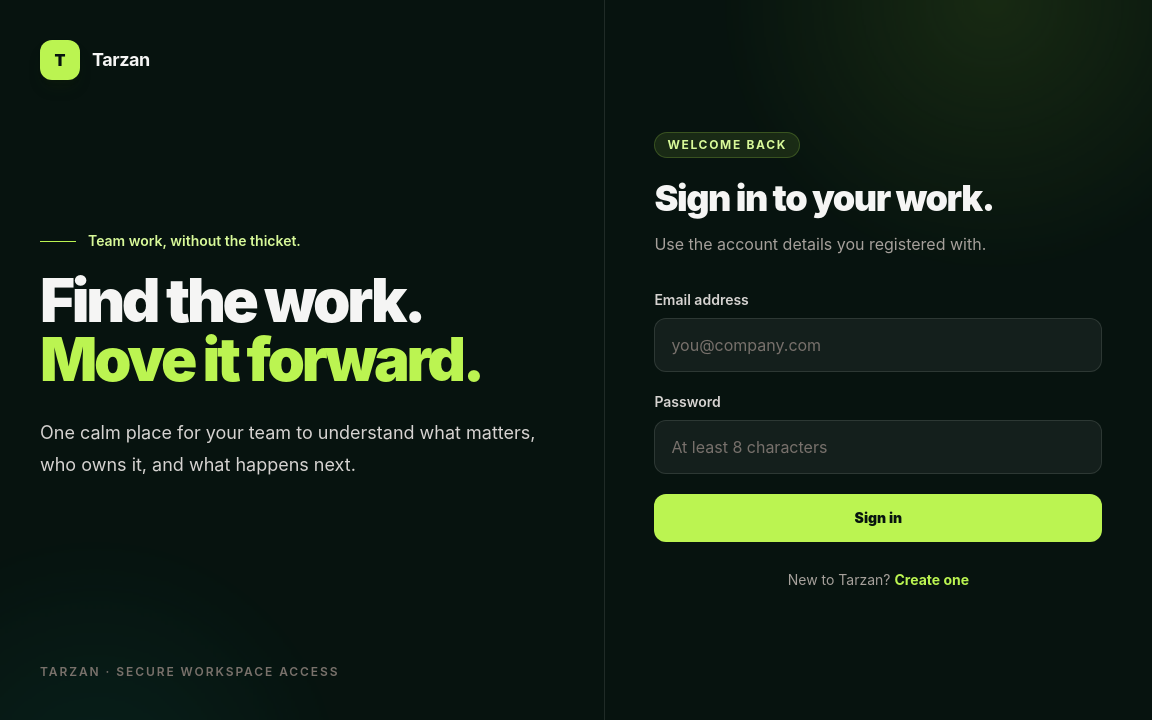
Test case: authentication flow › signs in and opens the protected workspace
Type "balaji@example.com" into the field labelled "Email address" at (878, 344), box [654,318,1102,372]
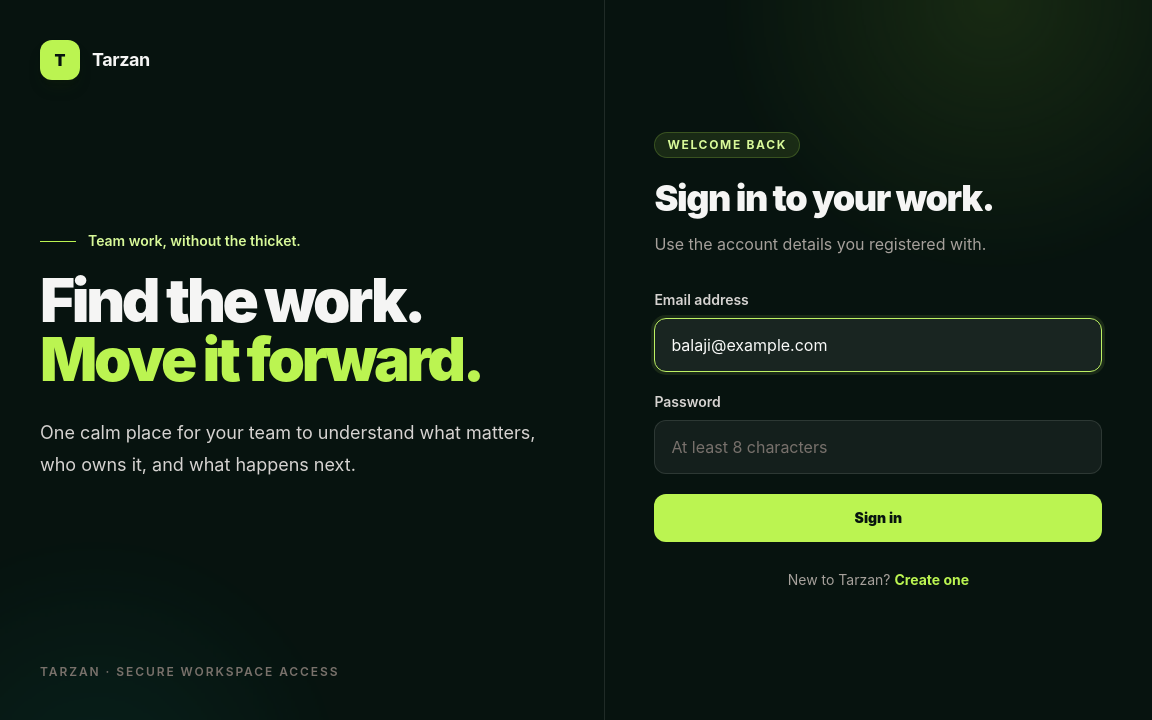
Type "StrongPass1" into the password field labelled "Password" at (878, 446), box [654,420,1102,474]
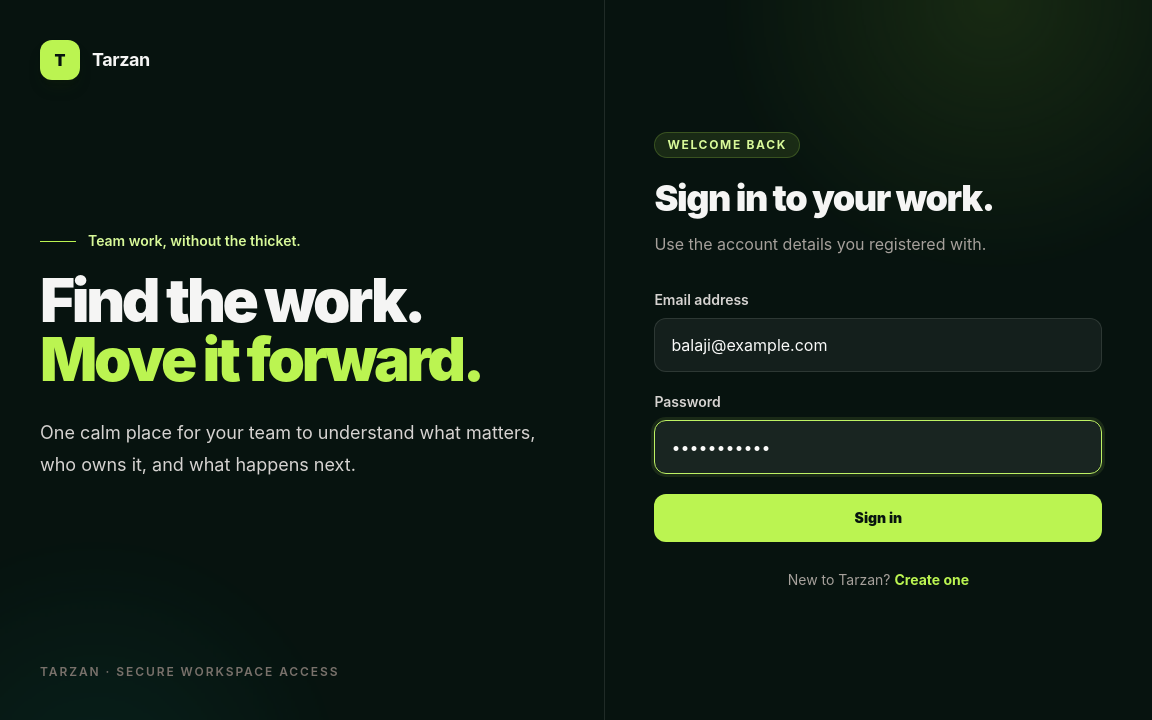
Click the button "Sign in" at (878, 518), box [654,494,1102,542]
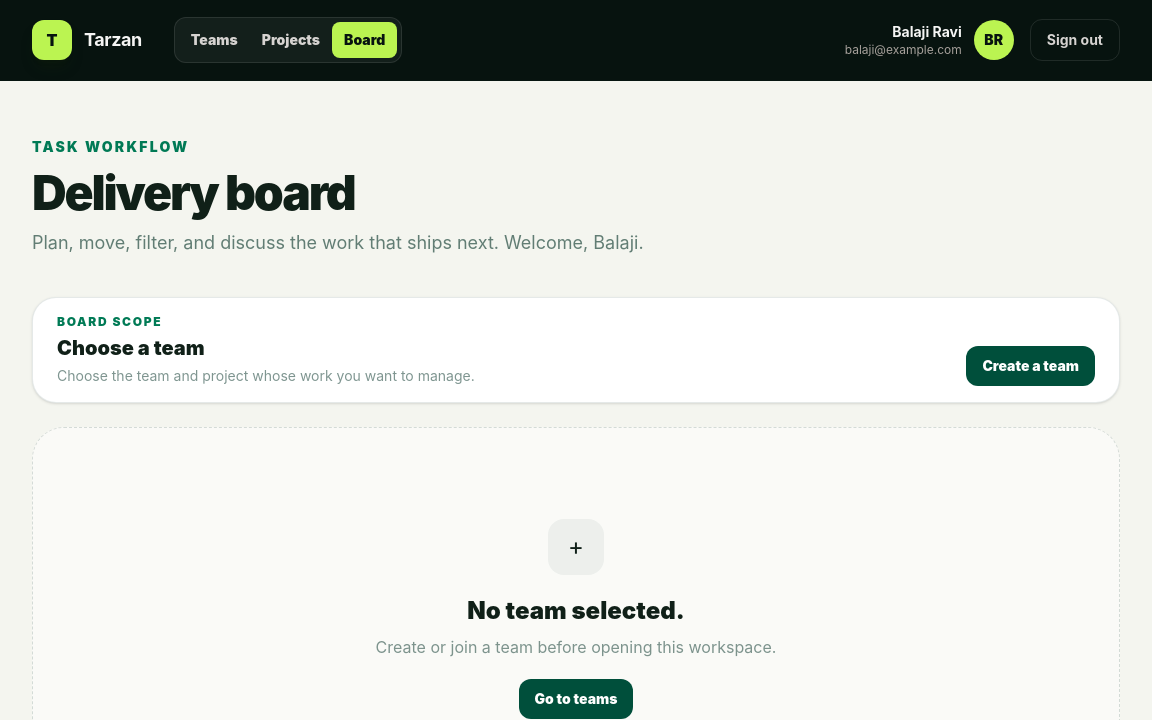
expect the heading "Delivery board" is shown: met, box [32,163,355,222]
expect the navigation bar named "Workspace sections" is shown: met, box [174,17,402,63]
